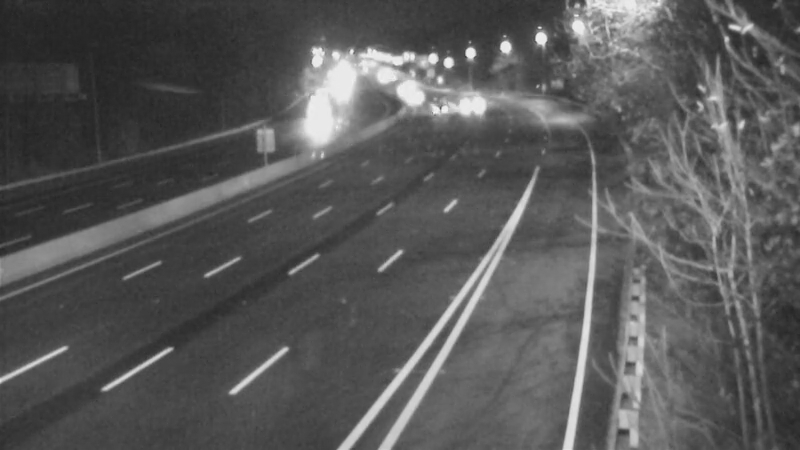vehicle: (375, 61, 425, 111), (386, 72, 436, 122), (440, 83, 490, 133), (416, 86, 466, 136), (291, 90, 341, 140)
